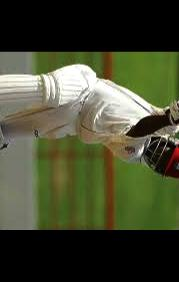batsman: (0, 61, 179, 195)
